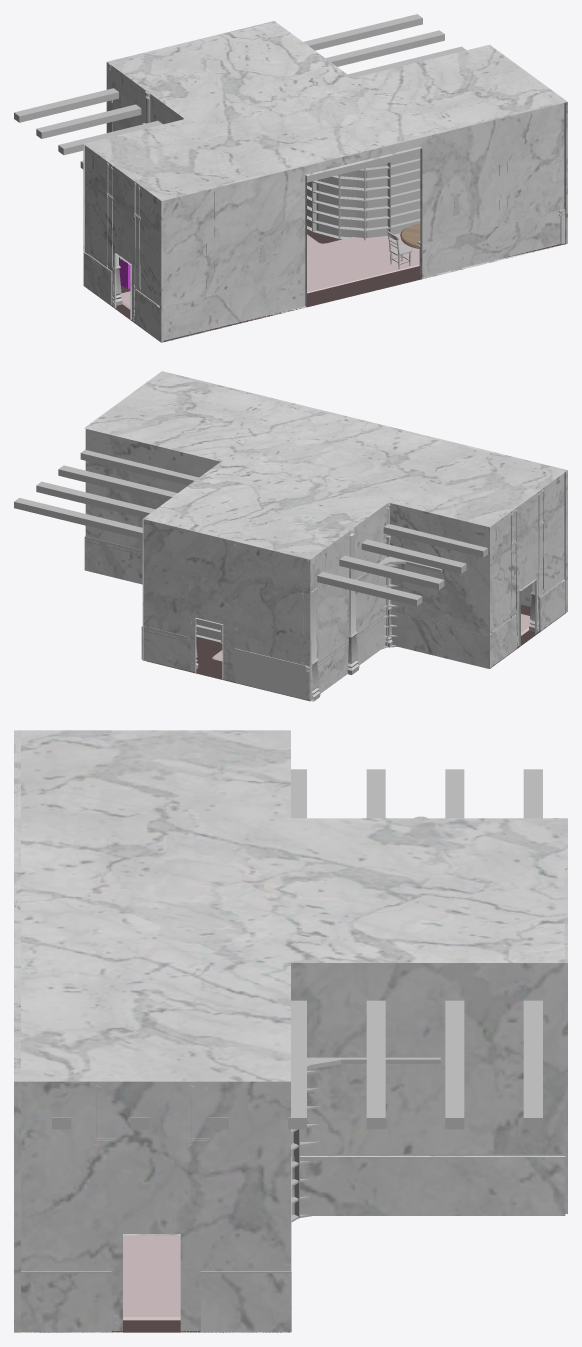
File: HallwayTileTypeD.fbx
3 renders of one model, top to bottom at view 1: azimuth 30°, elevation 25°; view 2: azimuth 150°, elevation 25°; view 3: azimuth 270°, elevation 25°, orthographic. The views are drawn at different scales.
Visible parts, largest first — view 1: HallwayTileTypeD, AtticBeams__4_, BooksTexCurved__3_, RugT, CurvedShelf__2_, WoodChair__4_; view 2: HallwayTileTypeD, AtticBeams__4_, CurvedShelf__1_; view 3: HallwayTileTypeD, AtticBeams__4_, RugT, CurvedShelf__2_.
Part boxes in pixels (left/top/right/bottom): HallwayTileTypeD: left=83, top=21, right=567, bottom=342; AtticBeams__4_: left=14, top=14, right=466, bottom=182; BooksTexCurved__3_: left=307, top=155, right=420, bottom=237; RugT: left=119, top=233, right=419, bottom=309; CurvedShelf__2_: left=307, top=158, right=420, bottom=240; WoodChair__4_: left=387, top=230, right=412, bottom=269; HallwayTileTypeD: left=84, top=371, right=567, bottom=701; AtticBeams__4_: left=14, top=449, right=487, bottom=606; CurvedShelf__1_: left=345, top=556, right=442, bottom=649; HallwayTileTypeD: left=14, top=730, right=567, bottom=1332; AtticBeams__4_: left=52, top=769, right=542, bottom=1129; RugT: left=123, top=1235, right=180, bottom=1320; CurvedShelf__2_: left=291, top=1057, right=440, bottom=1222.
Size of the model in its own units: 2400 by 805 by 1600.
